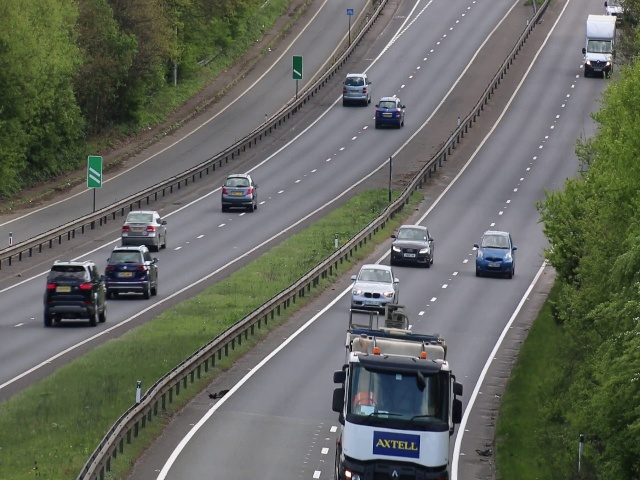car: (341, 353, 451, 480), (42, 258, 107, 330), (105, 244, 158, 300), (473, 231, 519, 280), (353, 264, 401, 309), (390, 224, 435, 268), (121, 210, 168, 252), (583, 32, 614, 82), (222, 171, 258, 213), (340, 70, 371, 107), (374, 94, 405, 130)
